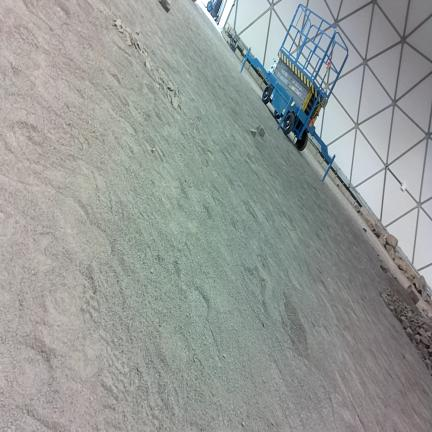Rock: (360, 208, 375, 230), (416, 276, 427, 300), (408, 285, 420, 304), (132, 37, 145, 54), (395, 257, 407, 271), (387, 235, 398, 249), (419, 346, 429, 359), (157, 76, 165, 91), (373, 224, 382, 237), (386, 245, 394, 259), (160, 0, 170, 11), (256, 125, 264, 137), (421, 336, 429, 348), (405, 268, 415, 277), (172, 96, 178, 109), (406, 328, 413, 339), (380, 264, 388, 273), (395, 251, 403, 260), (425, 359, 431, 370), (126, 32, 131, 45), (418, 328, 426, 336), (398, 302, 405, 311), (379, 236, 385, 246), (167, 82, 174, 90), (426, 296, 431, 307), (115, 19, 121, 28), (402, 320, 408, 329), (410, 321, 416, 330), (135, 71, 138, 87), (145, 60, 150, 69), (415, 335, 420, 343), (386, 290, 392, 296), (251, 129, 256, 136), (390, 307, 395, 313), (122, 22, 126, 29), (118, 28, 123, 33), (362, 228, 366, 233), (151, 148, 155, 152), (136, 32, 140, 35)
